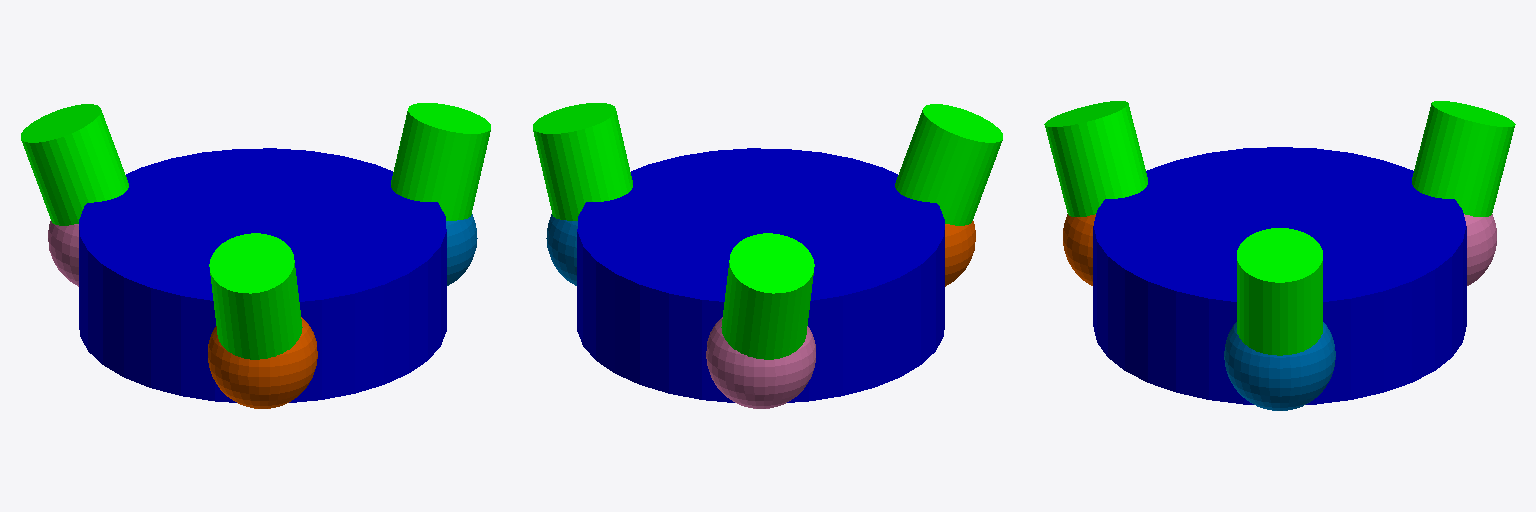
URDF robot description (gripper_3f_1j):
<?xml version='1.0' encoding='UTF-8'?>
<robot name="gripper_3f_1j">
  <link name="palm">
    <inertial>
      <origin xyz="0.0 0.0 0.0" rpy="0.0 -0.0 0.0"/>
      <mass value="1.0"/>
      <inertia ixx="1.0" ixy="0.0" ixz="0.0" iyy="1.0" iyz="0.0" izz="1.0"/>
    </inertial>
    <visual>
      <geometry>
        <cylinder radius="0.05" length="0.03"/>
      </geometry>
      <material name="blue"/>
      <origin xyz="0.0 0.0 0.0" rpy="0.0 -0.0 0.0"/>
    </visual>
    <collision>
      <geometry>
        <cylinder radius="0.05" length="0.03"/>
      </geometry>
      <origin xyz="0.0 0.0 0.0" rpy="0.0 0.0 0.0"/>
    </collision>
  </link>
  <link name="f11">
    <inertial>
      <origin xyz="0.0 0.0 0.0" rpy="0.0 -0.0 0.0"/>
      <mass value="1.0"/>
      <inertia ixx="1.0" ixy="0.0" ixz="0.0" iyy="1.0" iyz="0.0" izz="1.0"/>
    </inertial>
    <visual>
      <geometry>
        <cylinder radius="0.011622988941570234" length="0.034655890843647445"/>
      </geometry>
      <material name="green"/>
      <origin xyz="0.0 0.0 0.017327945421823723" rpy="0.0 -0.0 0.0"/>
    </visual>
    <collision>
      <geometry>
        <cylinder radius="0.011622988941570234" length="0.034655890843647445"/>
      </geometry>
      <origin xyz="0.0 0.0 0.05" rpy="0.0 0.0 0.0"/>
    </collision>
  </link>
  <link name="f21">
    <inertial>
      <origin xyz="0.0 0.0 0.0" rpy="0.0 -0.0 0.0"/>
      <mass value="1.0"/>
      <inertia ixx="1.0" ixy="0.0" ixz="0.0" iyy="1.0" iyz="0.0" izz="1.0"/>
    </inertial>
    <visual>
      <geometry>
        <cylinder radius="0.011622988941570234" length="0.034655890843647445"/>
      </geometry>
      <material name="green"/>
      <origin xyz="0.0 0.0 0.017327945421823723" rpy="0.0 -0.0 0.0"/>
    </visual>
    <collision>
      <geometry>
        <cylinder radius="0.011622988941570234" length="0.034655890843647445"/>
      </geometry>
      <origin xyz="0.0 0.0 0.05" rpy="0.0 0.0 0.0"/>
    </collision>
  </link>
  <link name="f31">
    <inertial>
      <origin xyz="0.0 0.0 0.0" rpy="0.0 -0.0 0.0"/>
      <mass value="1.0"/>
      <inertia ixx="1.0" ixy="0.0" ixz="0.0" iyy="1.0" iyz="0.0" izz="1.0"/>
    </inertial>
    <visual>
      <geometry>
        <cylinder radius="0.011622988941570234" length="0.034655890843647445"/>
      </geometry>
      <material name="green"/>
      <origin xyz="0.0 0.0 0.017327945421823723" rpy="0.0 -0.0 0.0"/>
    </visual>
    <collision>
      <geometry>
        <cylinder radius="0.011622988941570234" length="0.034655890843647445"/>
      </geometry>
      <origin xyz="0.0 0.0 0.05" rpy="0.0 0.0 0.0"/>
    </collision>
  </link>
  <link name="f11_base">
    <inertial>
      <origin xyz="0.0 0.0 0.0" rpy="0.0 -0.0 0.0"/>
      <mass value="1.0"/>
      <inertia ixx="1.0" ixy="0.0" ixz="0.0" iyy="1.0" iyz="0.0" izz="1.0"/>
    </inertial>
    <visual>
      <geometry>
        <sphere radius="0.015"/>
      </geometry>
      <origin xyz="0.0 0.0 0.0" rpy="0.0 -0.0 0.0"/>
    </visual>
  </link>
  <link name="f21_base">
    <inertial>
      <origin xyz="0.0 0.0 0.0" rpy="0.0 -0.0 0.0"/>
      <mass value="1.0"/>
      <inertia ixx="1.0" ixy="0.0" ixz="0.0" iyy="1.0" iyz="0.0" izz="1.0"/>
    </inertial>
    <visual>
      <geometry>
        <sphere radius="0.015"/>
      </geometry>
      <origin xyz="0.0 0.0 0.0" rpy="0.0 -0.0 0.0"/>
    </visual>
  </link>
  <link name="f31_base">
    <inertial>
      <origin xyz="0.0 0.0 0.0" rpy="0.0 -0.0 0.0"/>
      <mass value="1.0"/>
      <inertia ixx="1.0" ixy="0.0" ixz="0.0" iyy="1.0" iyz="0.0" izz="1.0"/>
    </inertial>
    <visual>
      <geometry>
        <sphere radius="0.015"/>
      </geometry>
      <origin xyz="0.0 0.0 0.0" rpy="0.0 -0.0 0.0"/>
    </visual>
  </link>
  <joint name="f11_joint" type="revolute">
    <dynamics damping="100.0" friction="1.0"/>
    <limit effort="30.0" velocity="2.0" lower="-0.65" upper="0.25"/>
    <parent link="f11_base"/>
    <child link="f11"/>
    <axis xyz="0. 1. 0."/>
    <origin xyz="0.0 0.0 0.0" rpy="0.0 0.25 0.0"/>
  </joint>
  <joint name="f21_joint" type="revolute">
    <dynamics damping="100.0" friction="1.0"/>
    <limit effort="30.0" velocity="2.0" lower="-0.65" upper="0.25"/>
    <mimic joint="f11_joint" multiplier="1.0" offset="0.0"/>
    <parent link="f21_base"/>
    <child link="f21"/>
    <axis xyz=" 0.70710678 -0.70710678  0.        "/>
    <origin xyz="0.0 0.0 0.0" rpy="0.25 -0.25 0.0"/>
  </joint>
  <joint name="f31_joint" type="revolute">
    <dynamics damping="100.0" friction="1.0"/>
    <limit effort="30.0" velocity="2.0" lower="-0.65" upper="0.25"/>
    <mimic joint="f11_joint" multiplier="1.0" offset="0.0"/>
    <parent link="f31_base"/>
    <child link="f31"/>
    <axis xyz="-0.70710678 -0.70710678  0.        "/>
    <origin xyz="0.0 0.0 0.0" rpy="-0.25 -0.25 0.0"/>
  </joint>
  <joint name="f11_base_joint" type="fixed">
    <parent link="palm"/>
    <child link="f11_base"/>
    <axis xyz="1. 0. 0."/>
    <origin xyz="0.05 0.0 0.0" rpy="0.0 0.0 0.0"/>
  </joint>
  <joint name="f21_base_joint" type="fixed">
    <parent link="palm"/>
    <child link="f21_base"/>
    <axis xyz="1. 0. 0."/>
    <origin xyz="-0.025 -0.043301270189222 0.0" rpy="0.0 0.0 0.0"/>
  </joint>
  <joint name="f31_base_joint" type="fixed">
    <parent link="palm"/>
    <child link="f31_base"/>
    <axis xyz="1. 0. 0."/>
    <origin xyz="-0.025 0.043301270189222 0.0" rpy="0.0 0.0 0.0"/>
  </joint>
  <material name="blue">
    <color rgba="0.  0.  0.8 1. "/>
  </material>
  <material name="green">
    <color rgba="0. 1. 0. 1."/>
  </material>
</robot>

--- Render facts (derived) ---
The picture shows the robot from 3 angles, left to right: view 1: azimuth 30°, elevation 25°; view 2: azimuth 150°, elevation 25°; view 3: azimuth 270°, elevation 25°; orthographic projection.
Model gripper_3f_1j with 7 links and 6 joints (3 revolute, 3 fixed), rooted at palm, posed all joints at 0.
Links seen in each view (by area): view 1: palm, f21, f31, f11, f21_base, f11_base, f31_base; view 2: palm, f31, f21, f11, f31_base, f11_base, f21_base; view 3: palm, f11, f21, f31, f11_base, f21_base, f31_base.
Link boxes in pixels (bbox=[...]): palm: bbox=[79, 148, 446, 402]; f21: bbox=[209, 233, 302, 359]; f31: bbox=[21, 104, 128, 225]; f11: bbox=[391, 103, 490, 220]; f21_base: bbox=[208, 317, 317, 408]; f11_base: bbox=[446, 214, 477, 285]; f31_base: bbox=[48, 221, 78, 286]; palm: bbox=[577, 148, 944, 402]; f31: bbox=[721, 233, 814, 359]; f21: bbox=[895, 104, 1002, 225]; f11: bbox=[533, 103, 632, 220]; f31_base: bbox=[706, 317, 815, 408]; f11_base: bbox=[546, 214, 577, 285]; f21_base: bbox=[945, 221, 975, 286]; palm: bbox=[1093, 147, 1466, 404]; f11: bbox=[1237, 228, 1322, 355]; f21: bbox=[1044, 101, 1147, 216]; f31: bbox=[1412, 101, 1515, 216]; f11_base: bbox=[1224, 322, 1335, 410]; f21_base: bbox=[1063, 214, 1095, 285]; f31_base: bbox=[1464, 214, 1496, 285].
Size in the robot's own frame: 0.1198 by 0.1263 by 0.0515 metres.
Geometry: primitives only (box / cylinder / sphere), no mesh files.